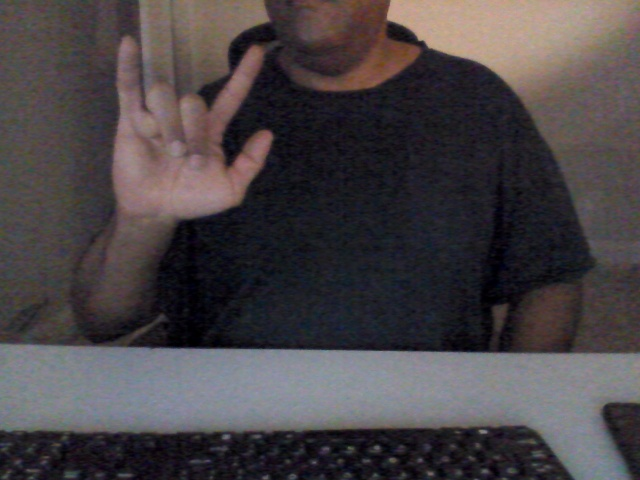i_love_you: (99, 30, 282, 223)
